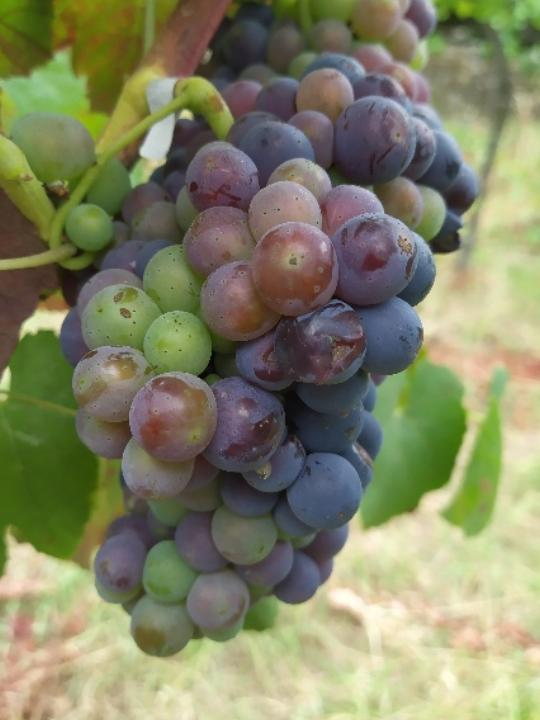grape: (56, 49, 440, 661)
